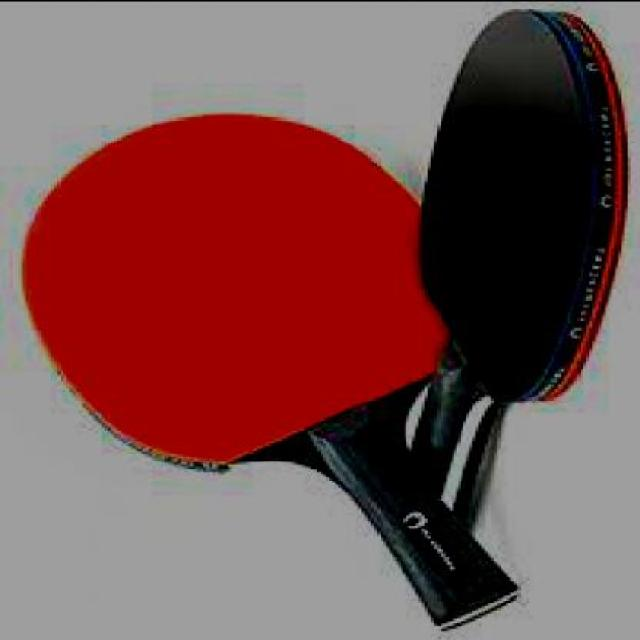table_tennis_racket: (26, 84, 431, 470), (409, 2, 640, 415)
